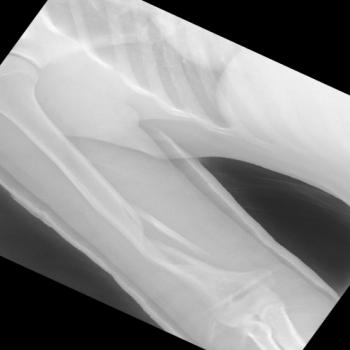Fracture: (117, 211, 217, 273)
